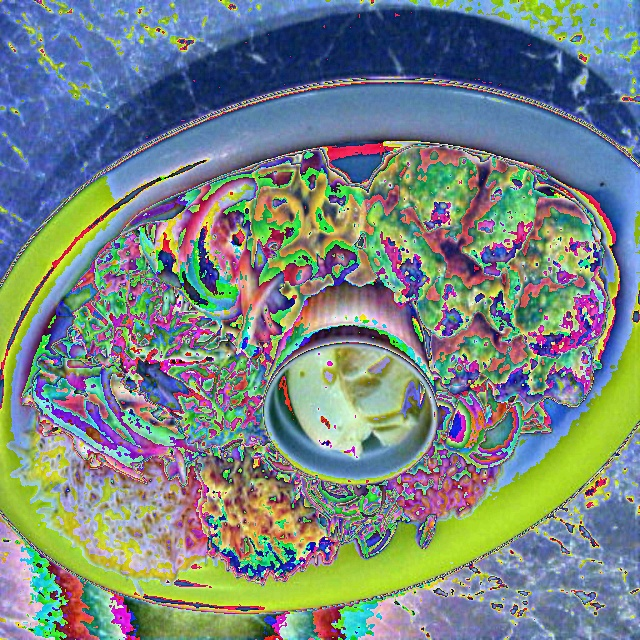background: (19, 145, 611, 589)
